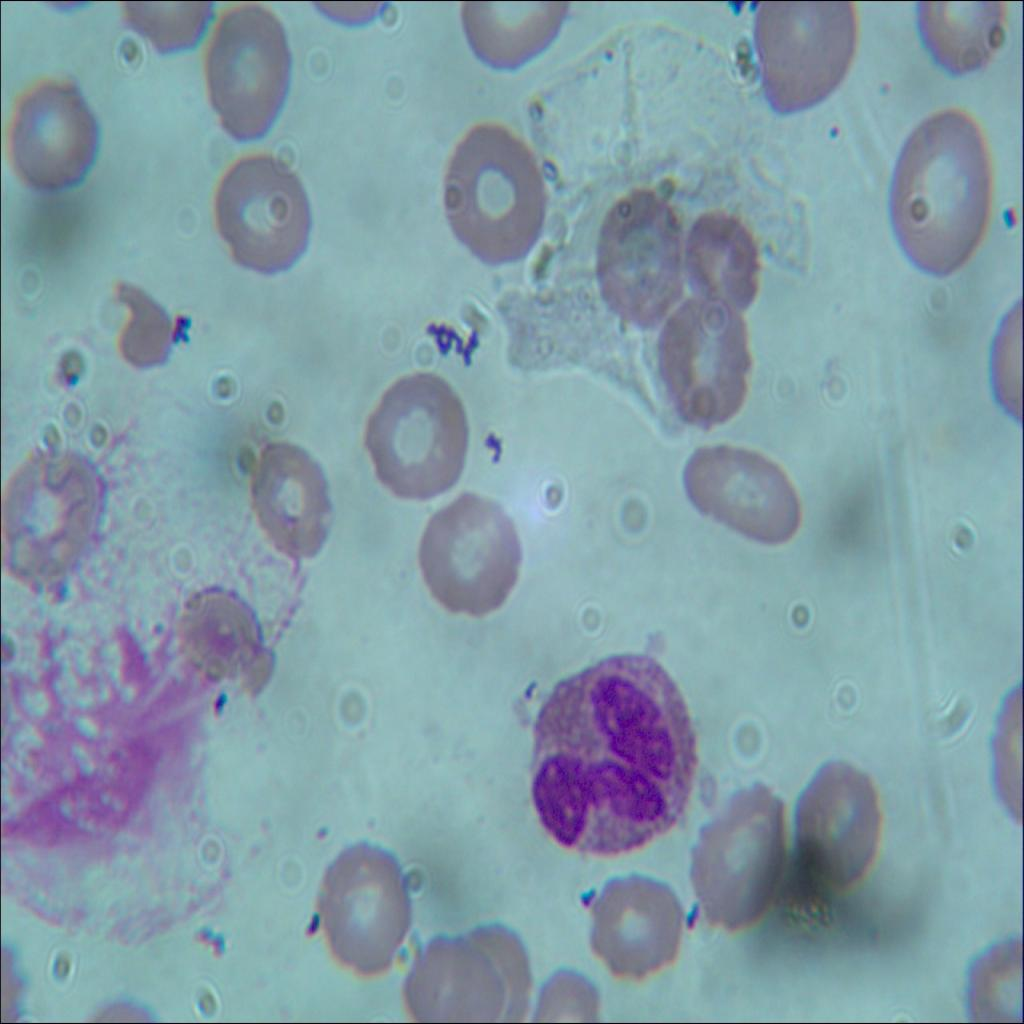Eosinofil: (522, 645, 703, 861)
Eritrosit: (884, 102, 993, 285), (406, 492, 528, 631), (689, 772, 781, 934), (444, 120, 544, 266), (594, 181, 688, 335), (304, 838, 410, 972), (0, 449, 102, 588), (202, 148, 310, 278), (358, 369, 466, 497), (691, 432, 806, 551), (746, 0, 858, 121), (201, 0, 293, 147), (653, 292, 749, 431), (574, 862, 683, 982), (242, 434, 336, 571), (796, 749, 881, 898), (9, 72, 96, 200), (179, 578, 273, 692), (399, 926, 502, 1023), (681, 206, 764, 321), (462, 917, 532, 1023)
Platelet: (811, 101, 848, 145), (674, 898, 708, 938), (574, 881, 606, 914), (1001, 195, 1023, 241), (210, 684, 229, 721), (868, 76, 894, 97)
